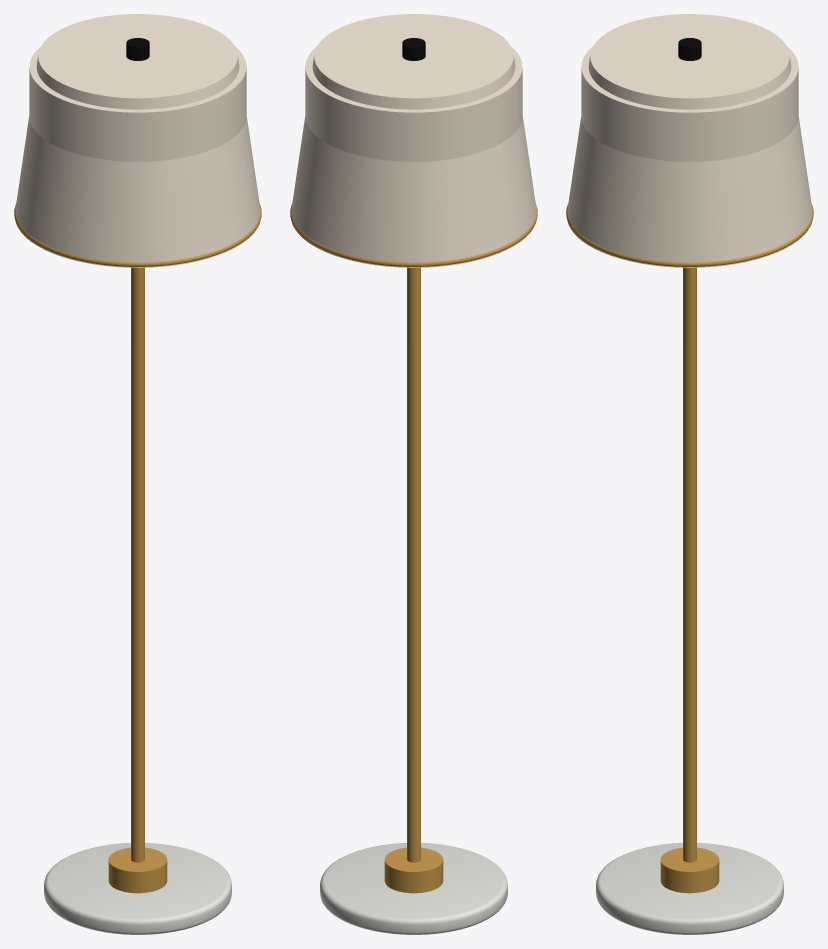
File: modern_floor_lamp.obj
3 views of the same model, side by side, from view 1: azimuth 30°, elevation 25°; view 2: azimuth 150°, elevation 25°; view 3: azimuth 270°, elevation 25° (orthographic).
Parts seen in each view (by area): view 1: shade, shade_inner, base, stem, base_ring, shade_rim; view 2: shade, shade_inner, base, stem, base_ring, shade_rim; view 3: shade, shade_inner, base, stem, base_ring, shade_rim.
Part boxes in pixels (x1,y1,x2,y2): shade: (15, 14, 260, 267); shade_inner: (29, 46, 246, 161); base: (44, 843, 231, 934); stem: (131, 267, 144, 862); base_ring: (108, 847, 167, 893); shade_rim: (14, 203, 261, 266); shade: (291, 14, 536, 267); shade_inner: (305, 46, 522, 161); base: (320, 843, 507, 934); stem: (407, 267, 420, 862); base_ring: (384, 847, 443, 893); shade_rim: (290, 203, 537, 266); shade: (567, 14, 812, 267); shade_inner: (581, 46, 798, 161); base: (596, 843, 783, 934); stem: (683, 267, 696, 862); base_ring: (660, 847, 719, 893); shade_rim: (566, 204, 813, 266).
Bounding box in the file's own units: 0.422 × 1.61 × 0.422.
